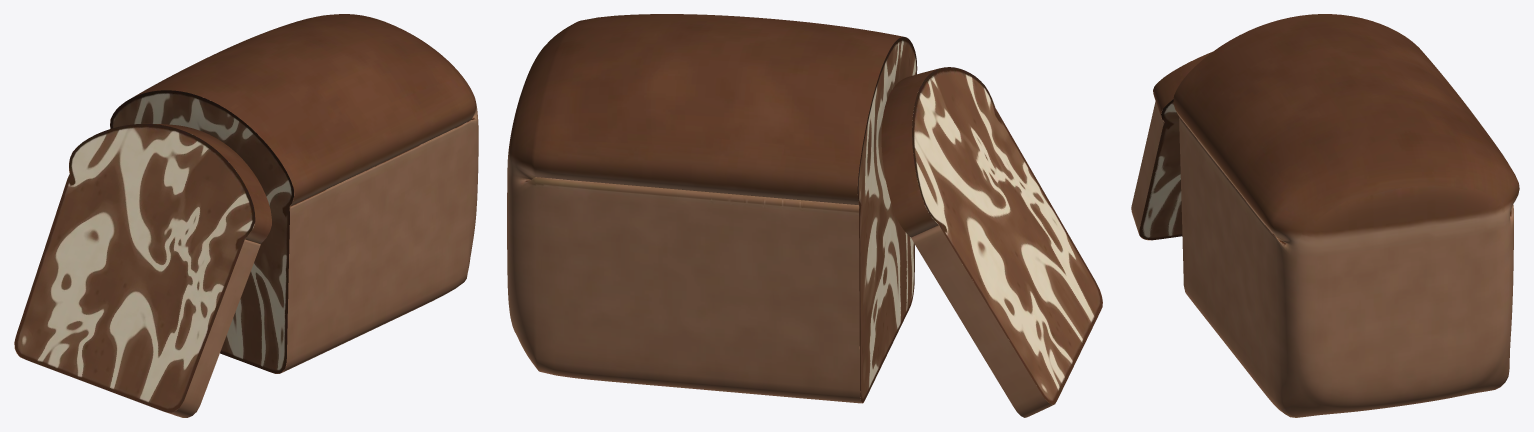
File: loaf--choco-cocoa.glb
3 views of the same model, side by side, from view 1: azimuth 30°, elevation 25°; view 2: azimuth 150°, elevation 25°; view 3: azimuth 270°, elevation 25° (orthographic). The views are drawn at different scales.
Visible parts, largest first — view 1: loaf_choco-cocoa; view 2: loaf_choco-cocoa; view 3: loaf_choco-cocoa.
Boxes of the visible parts, <box> form: loaf_choco-cocoa: <box>14,14,478,417</box>; loaf_choco-cocoa: <box>507,14,1102,417</box>; loaf_choco-cocoa: <box>1131,14,1519,417</box>.
Bounding box in the file's own units: 1.28 × 0.7199 × 0.9091.
1 material, 1 textured.
